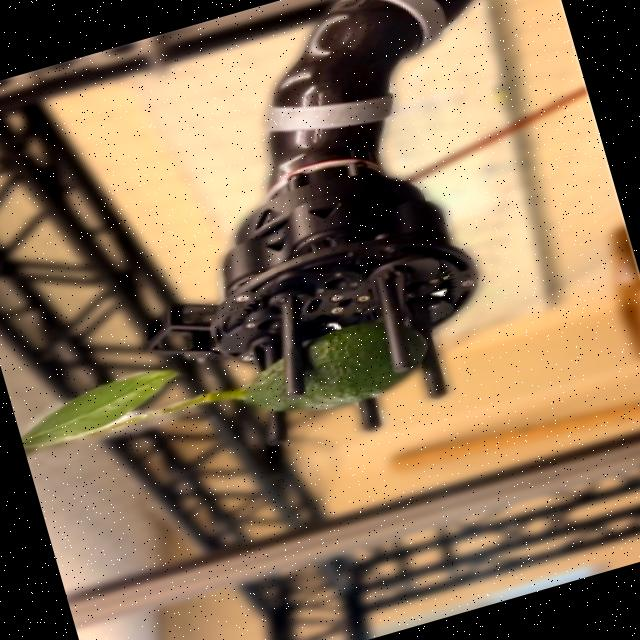leaf: (21, 370, 177, 443)
occludedfruit: (244, 319, 396, 411)
peduncle: (34, 389, 244, 449)
